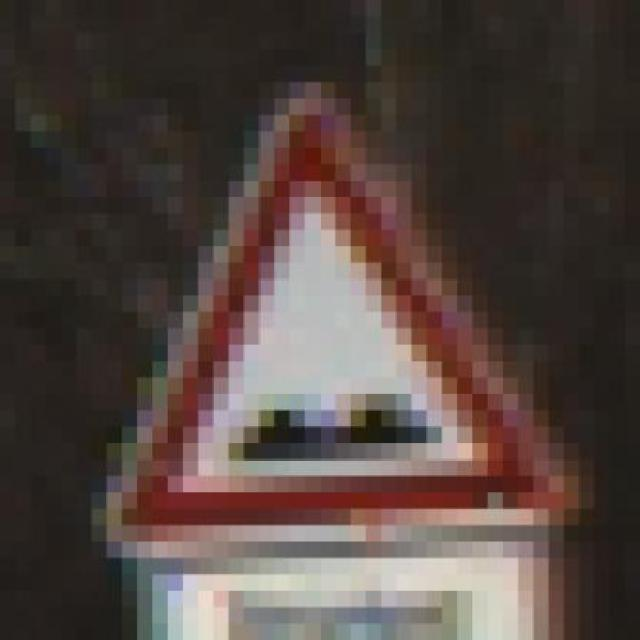Uneven Road: (92, 82, 579, 526)
